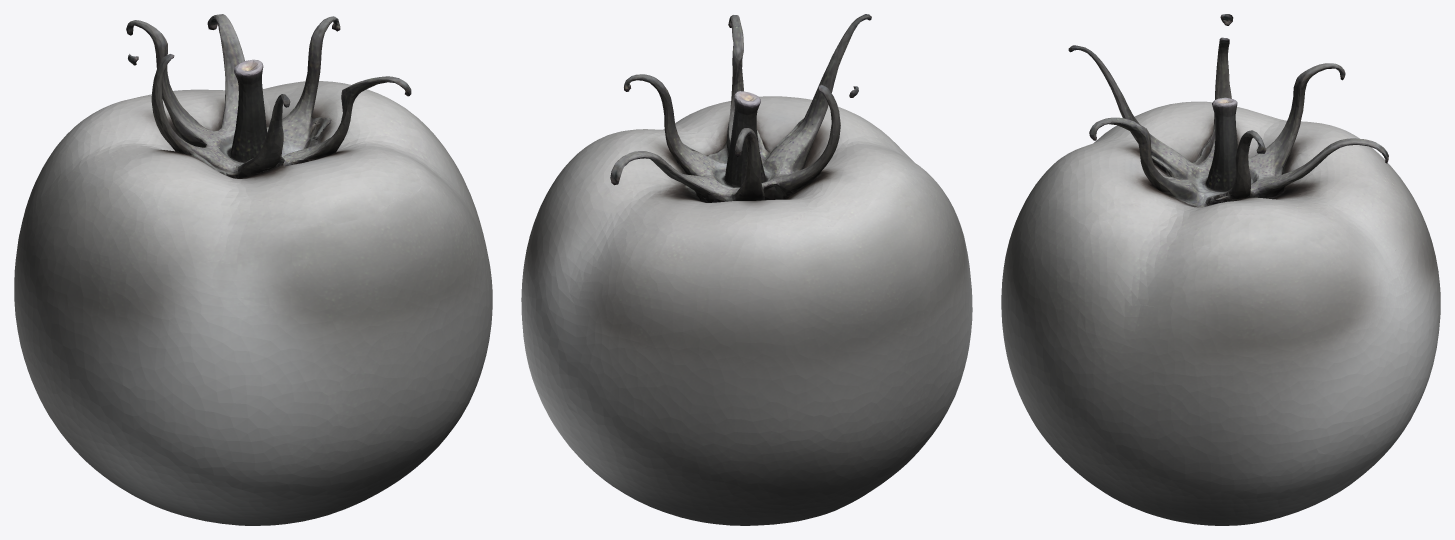
The model's file is tomatoe.glb.
3 renders of one model, left to right at view 1: azimuth 30°, elevation 25°; view 2: azimuth 150°, elevation 25°; view 3: azimuth 270°, elevation 25°, orthographic. The views are drawn at different scales.
Bounding box in the file's own units: 92.45 × 100 × 92.4.
1 material, 1 textured.
